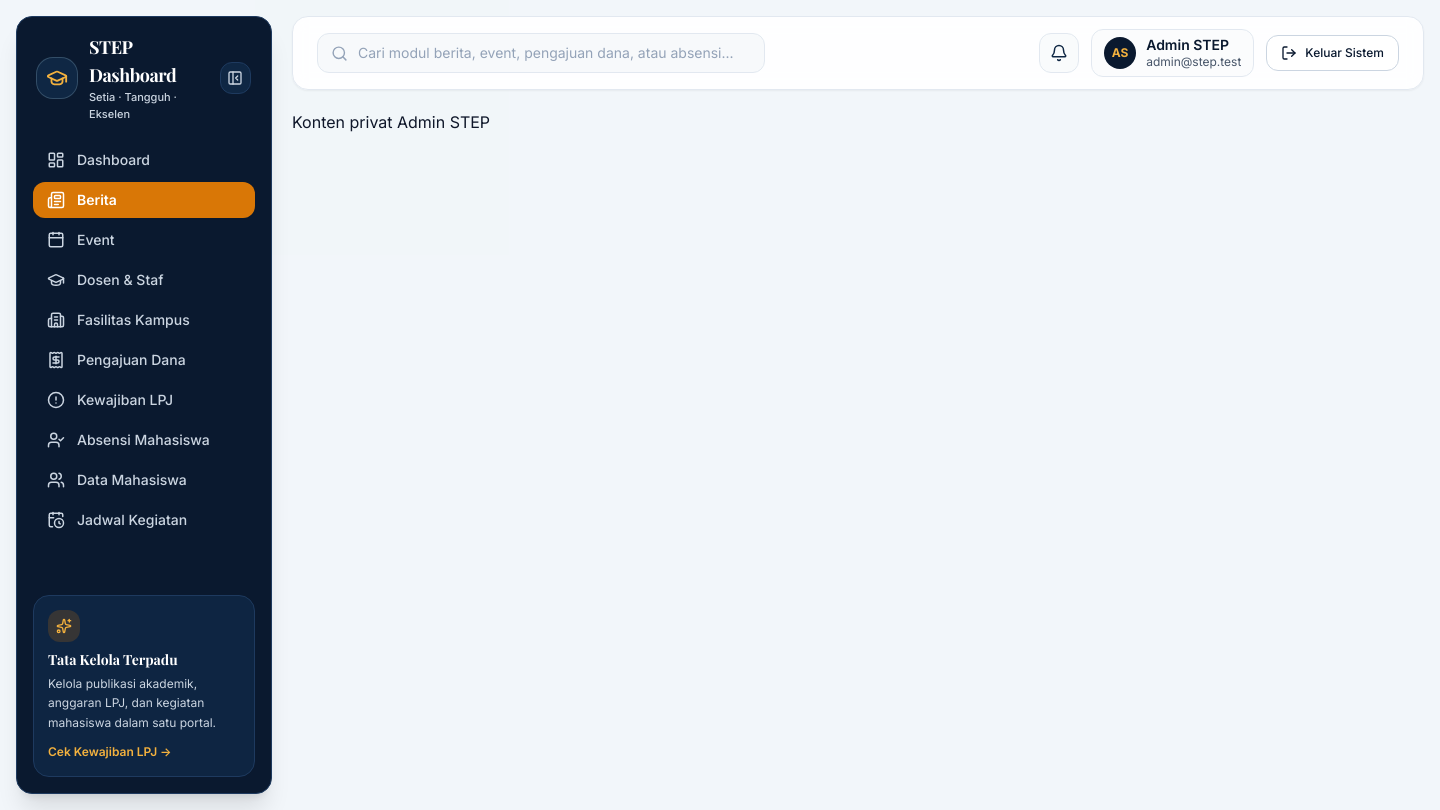
Test: clears token and private cache even when server logout fails
Expected: the text "Konten privat Admin STEP" is shown, [292,112,490,132]
Step 1. Click the button "Keluar Sistem" → [1333, 53], box [1266,35,1399,71]
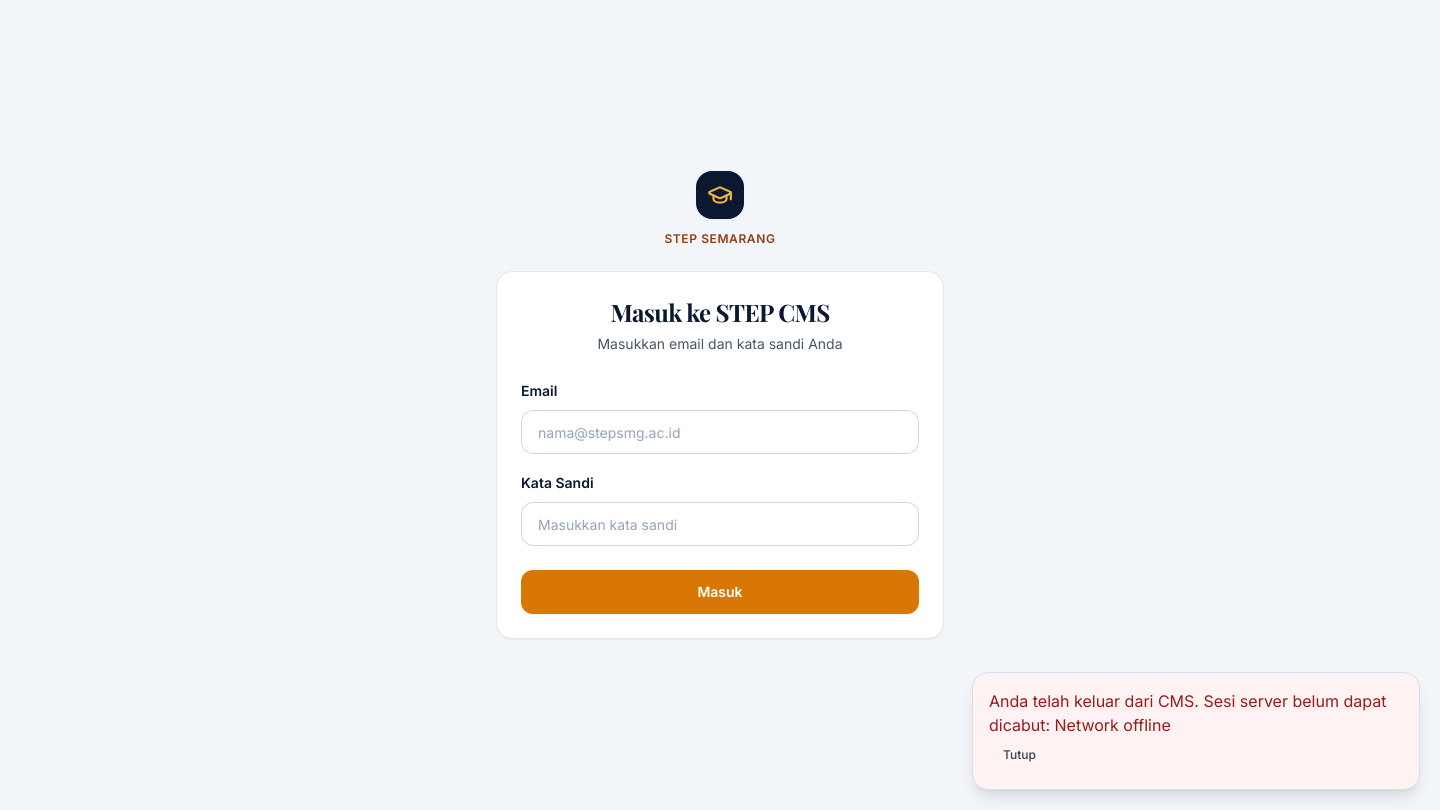
Result: the text "Masuk ke STEP CMS" is shown at [610,296,830,328]
